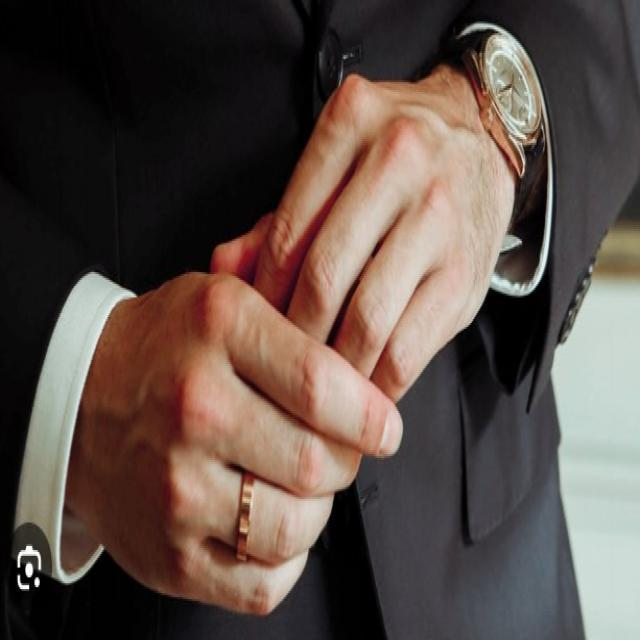Watch: (450, 27, 550, 220)
